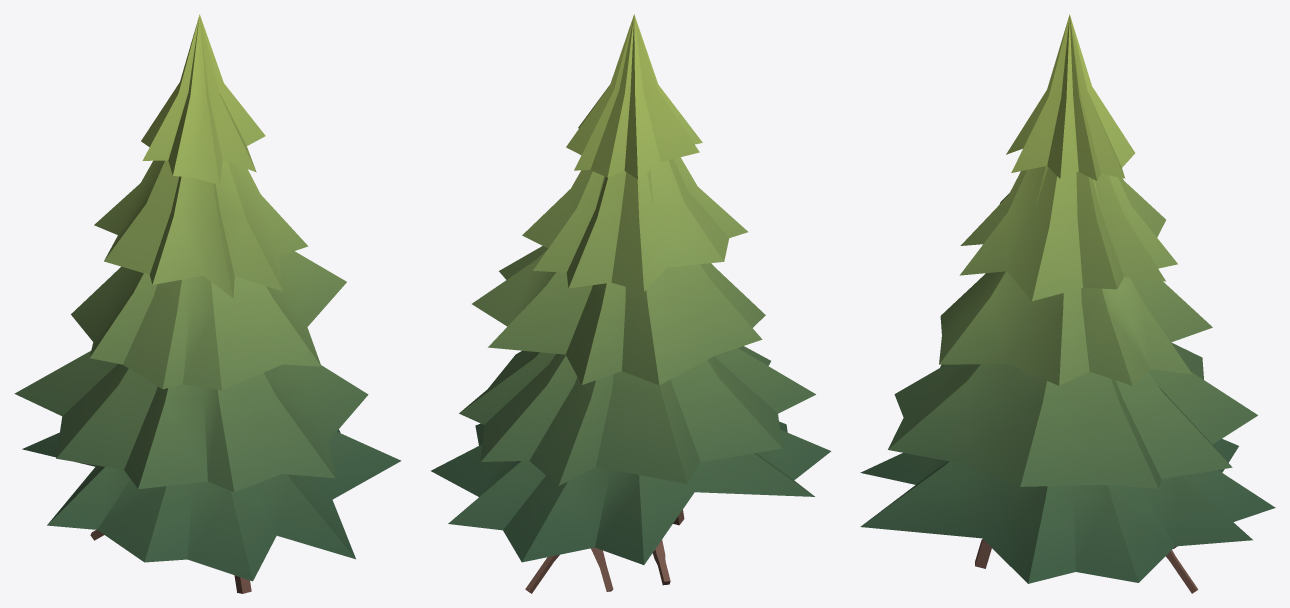
File: Baum_sehr_groß.fbx
3 views of the same model, side by side, from view 1: azimuth 30°, elevation 25°; view 2: azimuth 150°, elevation 25°; view 3: azimuth 270°, elevation 25° (orthographic). The views are drawn at different scales.
Parts seen in each view (by area): view 1: mid_tree; view 2: mid_tree; view 3: mid_tree.
Part boxes in pixels (x1,y1,x2,y2): mid_tree: (14,14,401,593); mid_tree: (431,14,831,593); mid_tree: (860,14,1275,593).
Bounding box in the file's own units: 424 × 640 × 432.
